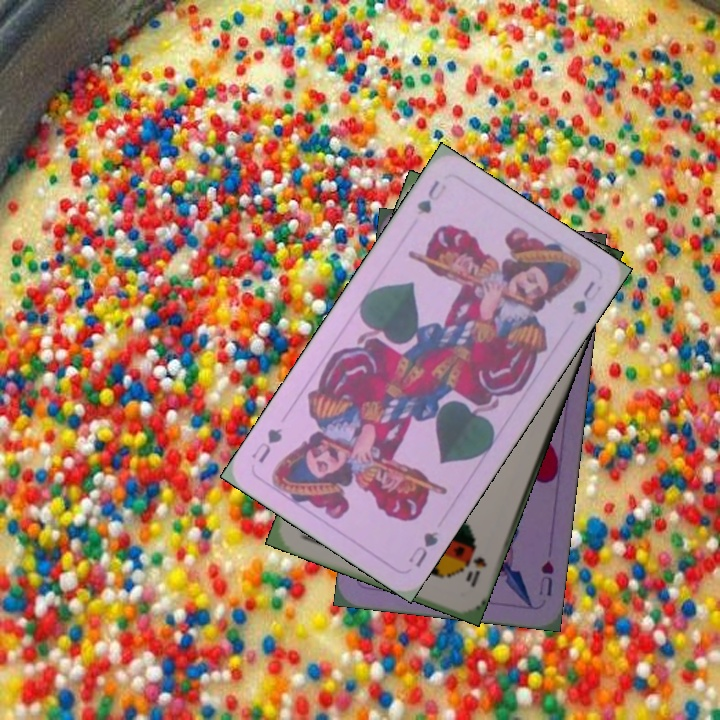GU: (412, 176, 450, 218), (404, 527, 441, 570)
HU: (535, 556, 557, 599)
SO: (462, 541, 489, 590)
